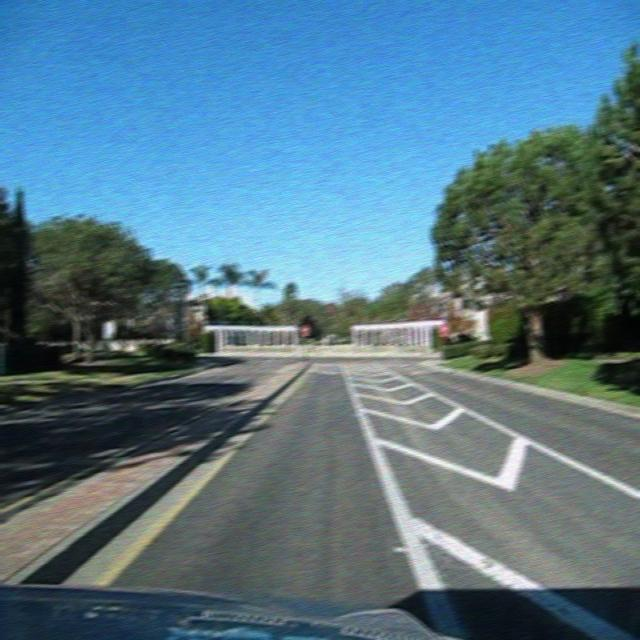stop: (437, 321, 449, 336), (299, 322, 310, 334)
